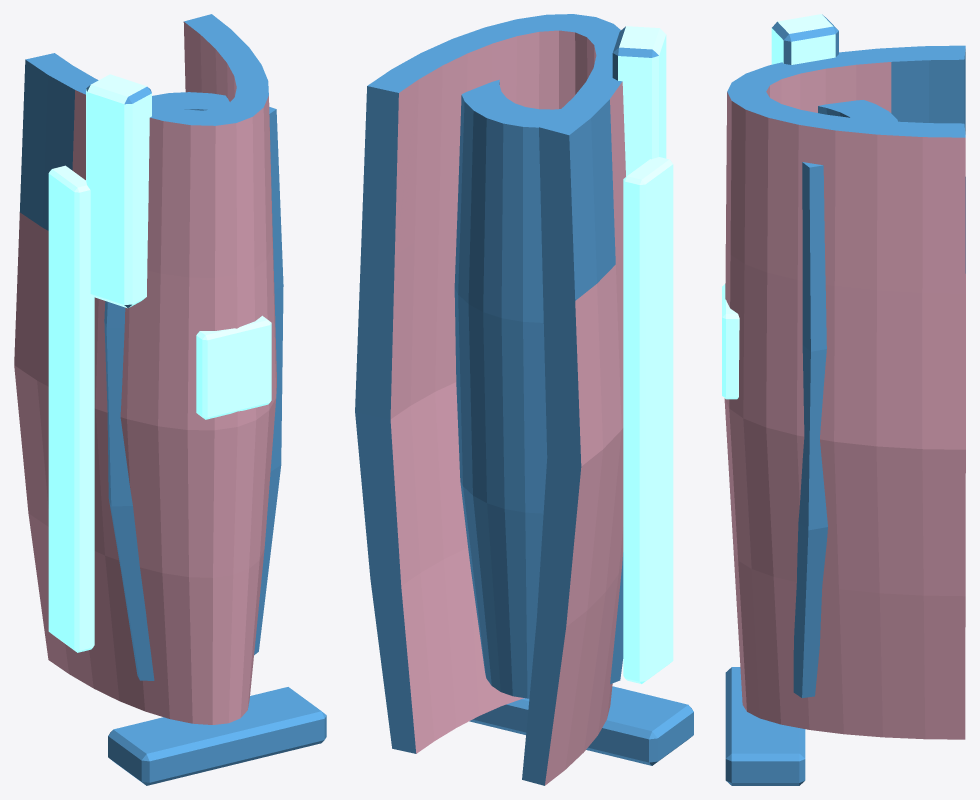
The model's file is right_thigh.glb.
3 renders of one model, left to right at view 1: azimuth 30°, elevation 25°; view 2: azimuth 150°, elevation 25°; view 3: azimuth 270°, elevation 25°, orthographic. The views are drawn at different scales.
Parts seen in each view (by area): view 1: armor_right_thigh_v001; view 2: armor_right_thigh_v001; view 3: armor_right_thigh_v001.
Boxes of the visible parts, x1,y1,x2,y2 form: armor_right_thigh_v001: [14, 14, 326, 785]; armor_right_thigh_v001: [355, 14, 693, 785]; armor_right_thigh_v001: [722, 14, 965, 785].
Size of the model in its own units: 0.1298 by 0.3769 by 0.1225.
